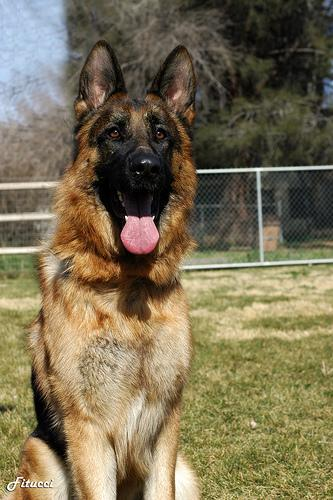German_shepherd: (0, 41, 216, 498)
